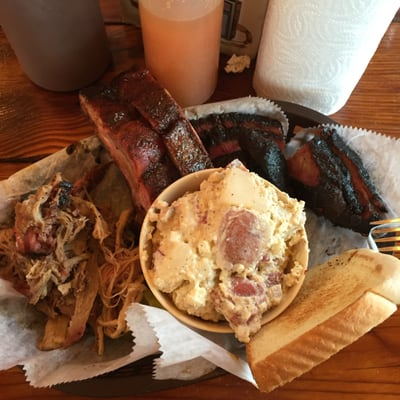pizza: (252, 0, 399, 117), (0, 0, 114, 93), (137, 0, 225, 108)
soup: (140, 164, 309, 344)
